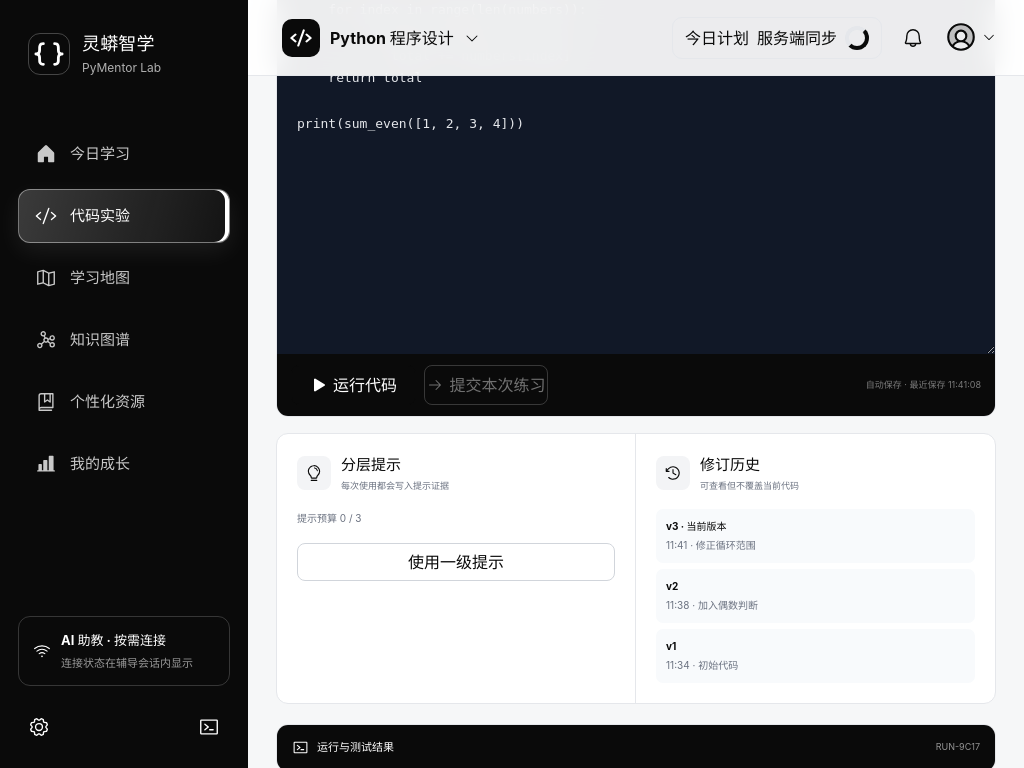
FE-021 error-screenshot OCR upload › does NOT offer 上传截图报错 when the run succeeded
(page scrolled)
Click the button "运行代码": (354, 385) [291,365,416,405]
(page scrolled)
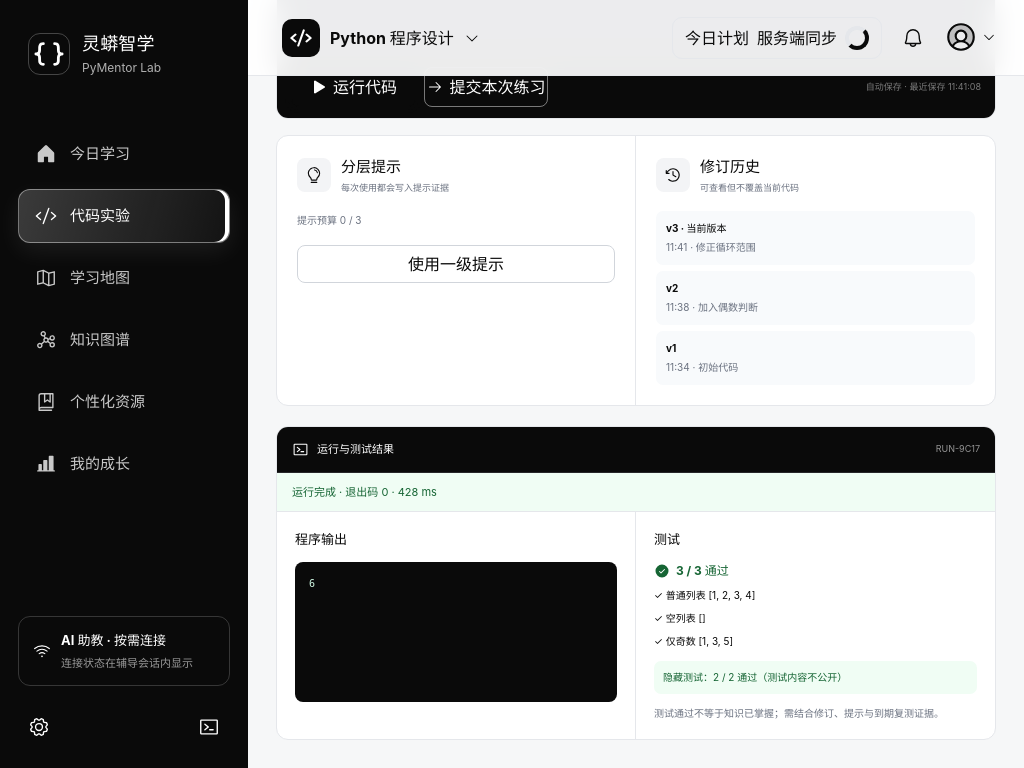
Expected: the message named "运行状态" shows "运行完成", [292,485,437,499]
